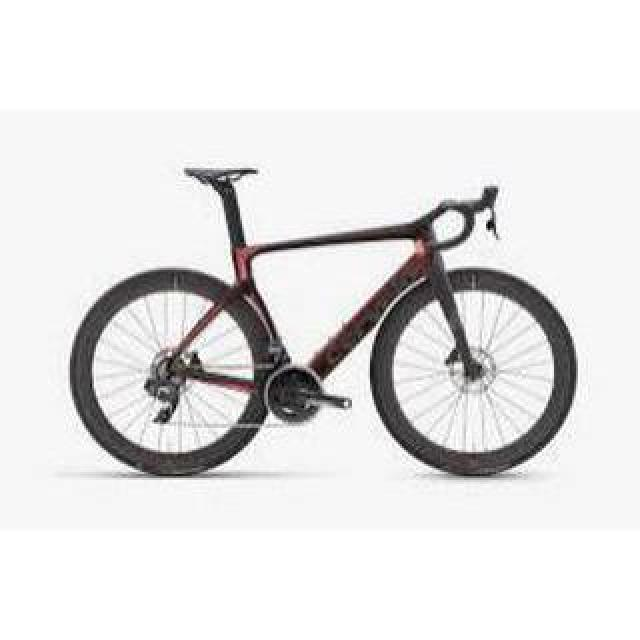Person: (70, 164, 580, 478)
